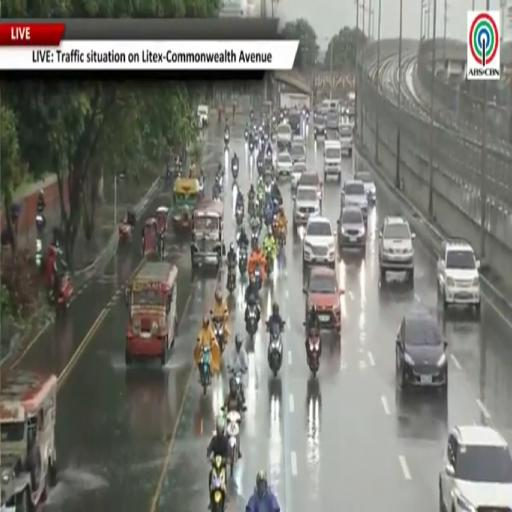car: (439, 425, 511, 511), (396, 312, 447, 392), (437, 240, 480, 313), (303, 267, 344, 332), (379, 217, 415, 284), (303, 216, 335, 267), (338, 206, 366, 252), (293, 185, 321, 229), (341, 180, 368, 222), (298, 171, 323, 207), (324, 140, 342, 182), (354, 171, 376, 204), (276, 122, 292, 152), (340, 120, 353, 156), (276, 153, 292, 177), (288, 109, 302, 135), (292, 163, 306, 188), (314, 112, 326, 140), (291, 141, 306, 163), (197, 105, 209, 127), (327, 110, 339, 131), (292, 136, 306, 149), (325, 128, 338, 140)
jeepney: (0, 372, 57, 511), (125, 262, 177, 365), (191, 200, 225, 268), (173, 179, 199, 231), (143, 218, 158, 257), (155, 206, 169, 232)
motorcycle: (226, 410, 242, 476), (210, 456, 226, 511), (267, 324, 282, 377), (307, 332, 320, 377), (200, 347, 211, 395), (213, 319, 225, 353), (230, 370, 244, 398), (246, 304, 257, 338), (227, 263, 236, 293), (277, 233, 285, 263), (239, 247, 247, 276), (36, 214, 46, 237), (265, 250, 273, 278), (36, 238, 43, 268), (265, 202, 273, 227), (236, 204, 244, 227), (255, 265, 262, 290), (158, 233, 164, 261), (198, 176, 204, 199), (265, 152, 273, 168), (257, 157, 264, 175), (248, 200, 255, 218), (232, 160, 238, 180), (216, 173, 223, 189), (224, 132, 229, 150), (252, 232, 258, 246), (249, 141, 254, 152), (250, 111, 254, 122), (245, 130, 248, 141)
truck: (280, 92, 311, 111)
